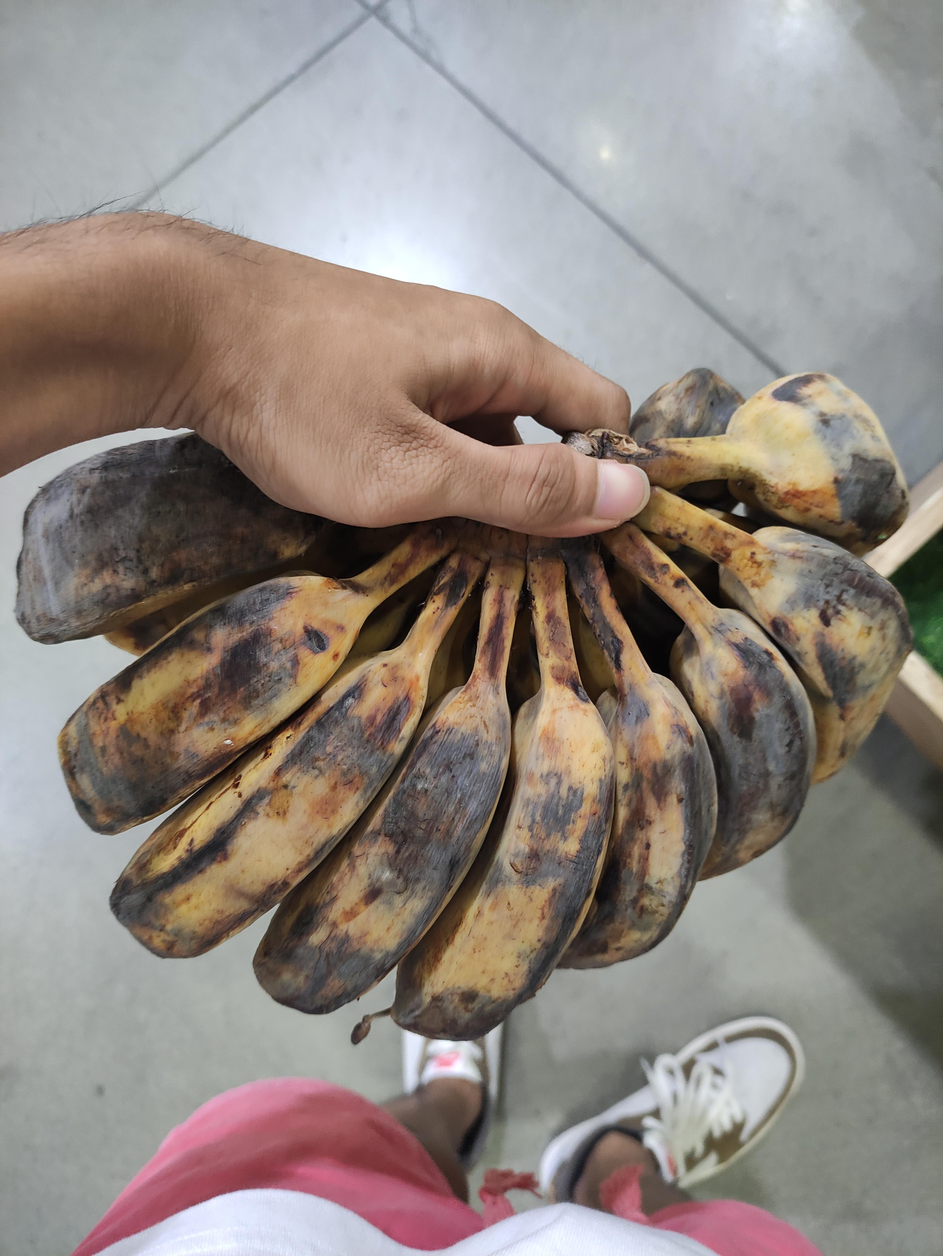overripe: (17, 368, 911, 1043)
